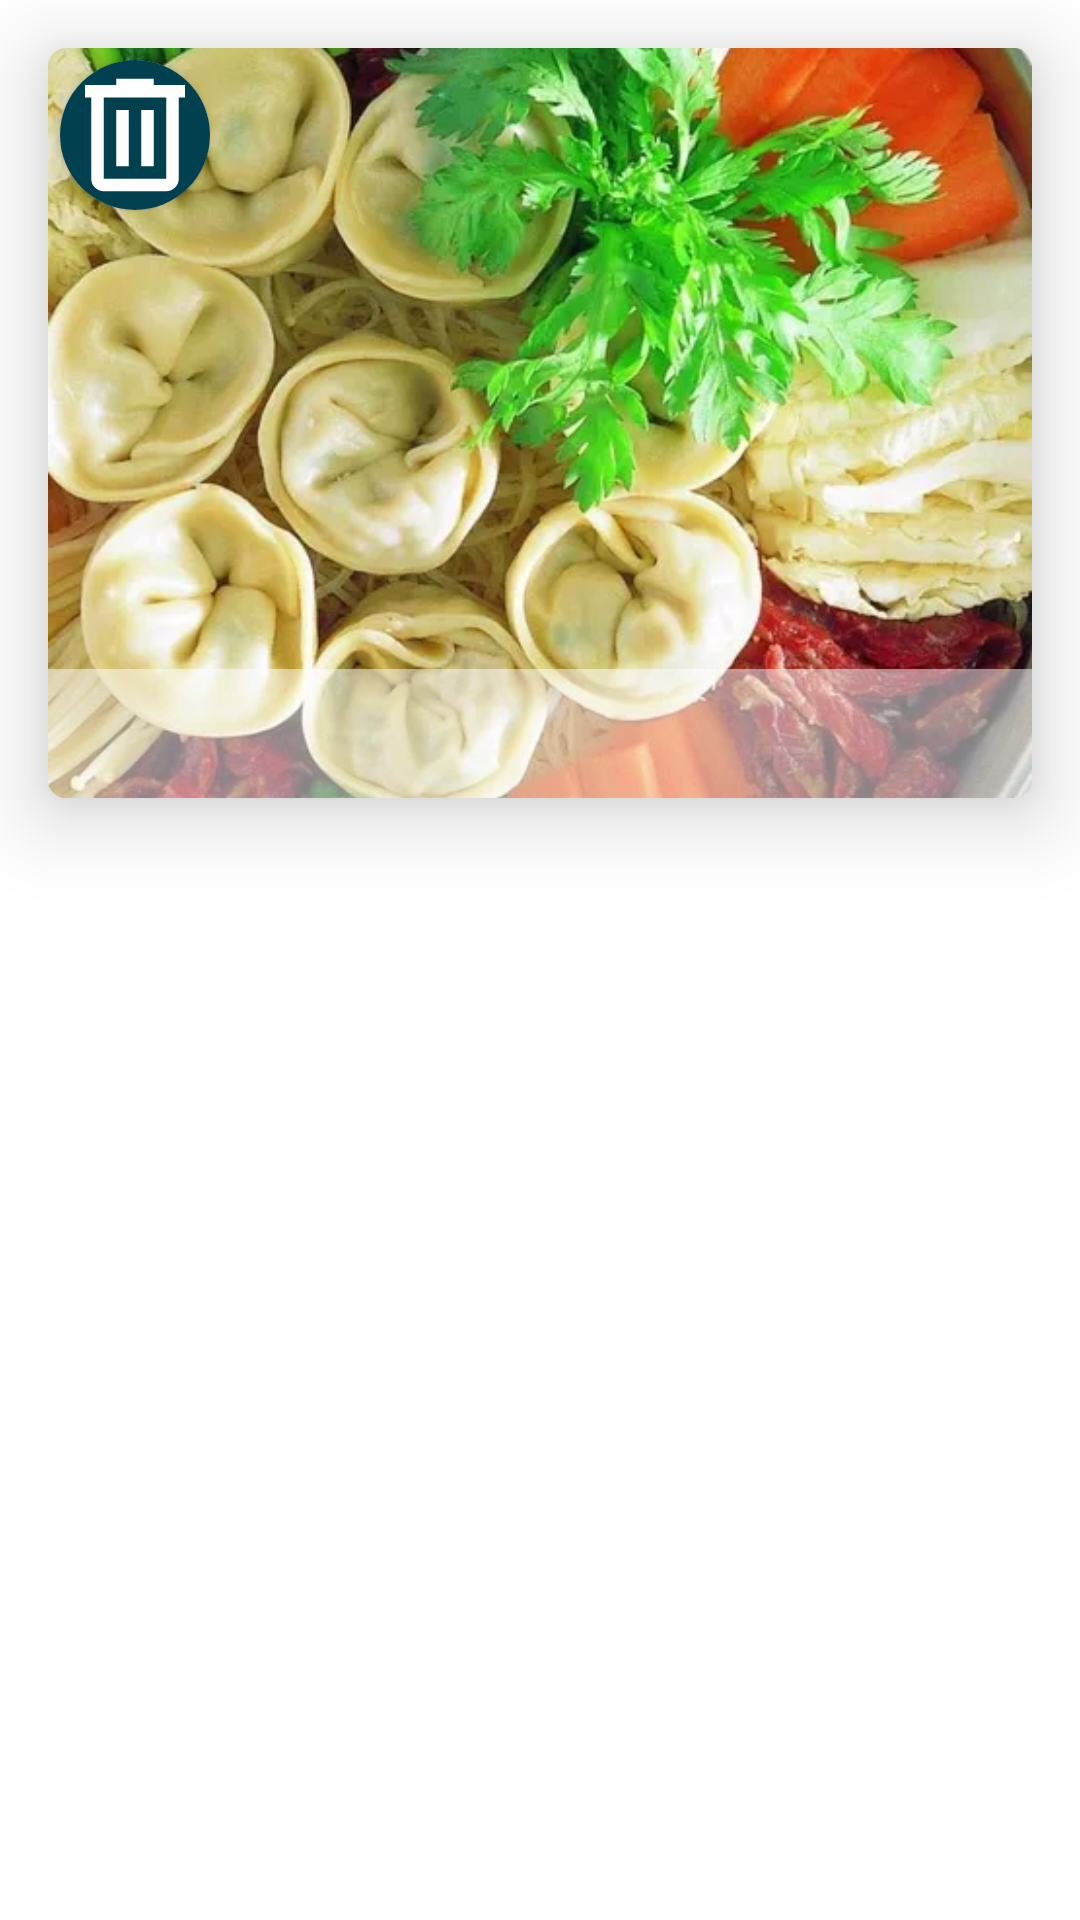

Icons on this 1080px×1920px Android screen, each with the point to tap as (x=x, y=y):
delete: (x=135, y=135)
